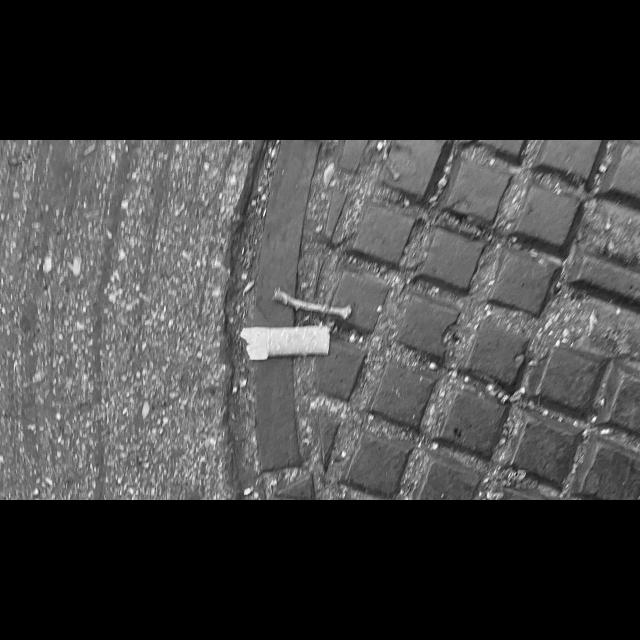cigarette: (239, 325, 331, 361)
